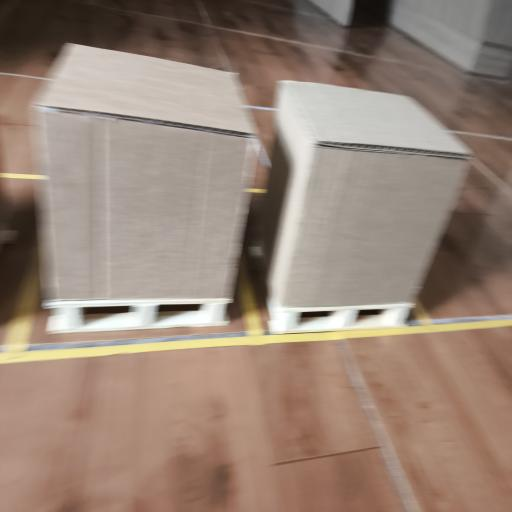pallet: (43, 300, 229, 333), (268, 300, 414, 333)
